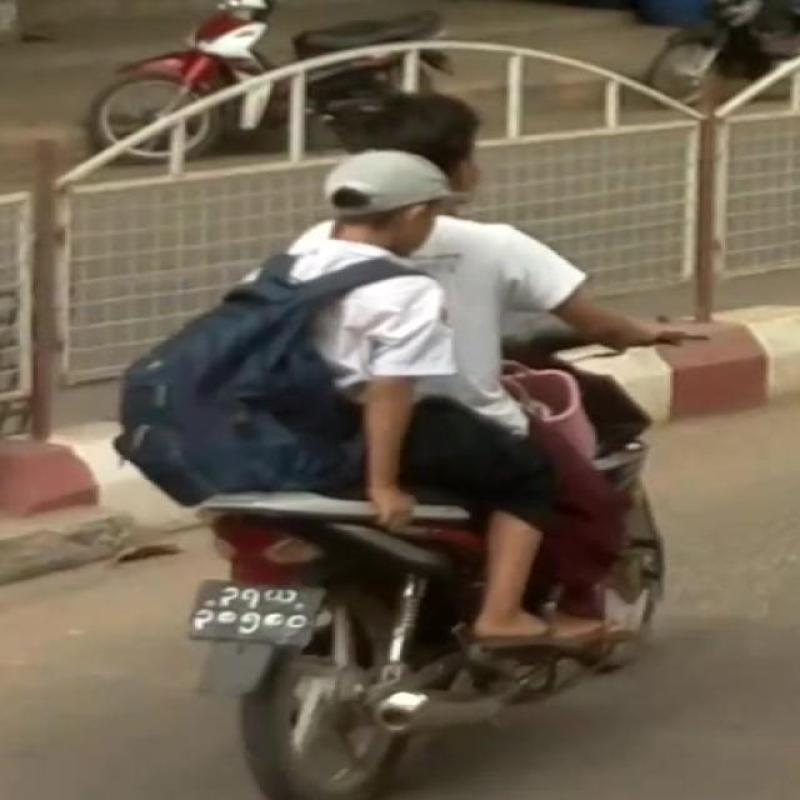nohelmet: (291, 150, 524, 245)
